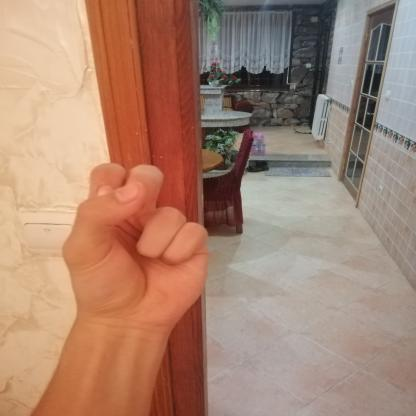QAAF: (37, 145, 244, 342)
